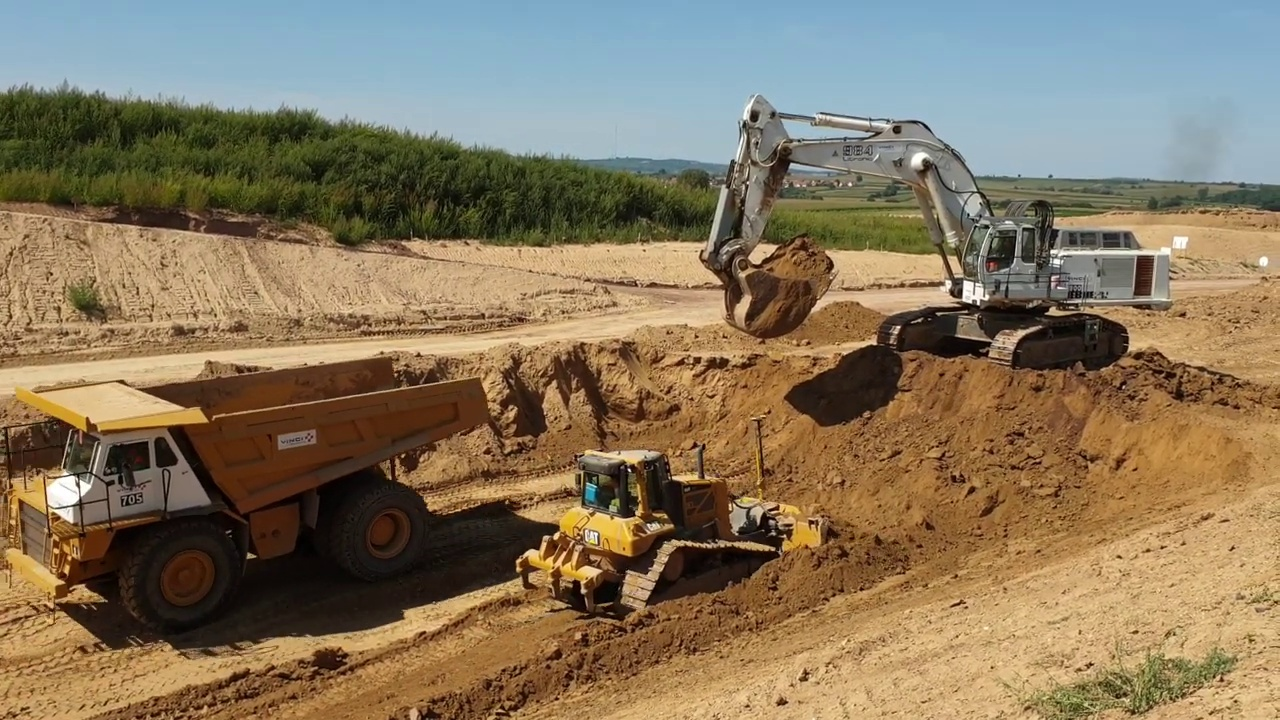bulldozer: (515, 414, 837, 626)
excavator: (701, 88, 1178, 376)
truck: (4, 355, 498, 643)
